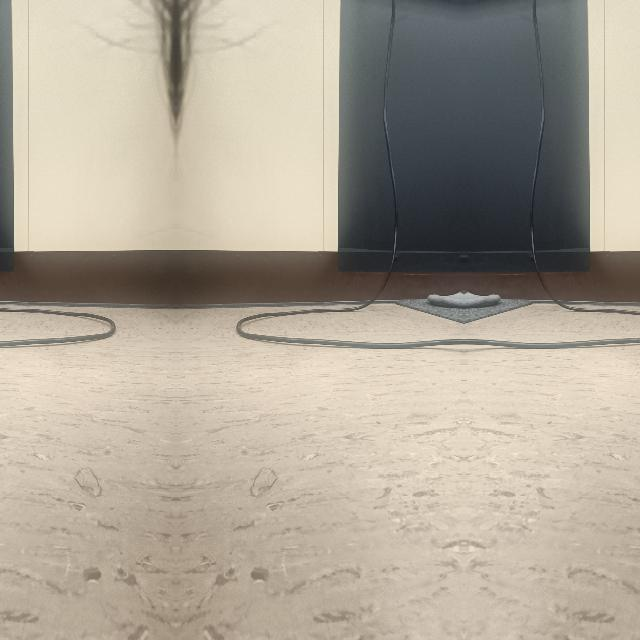obstacle: (240, 310, 464, 360), (464, 310, 640, 359), (0, 310, 110, 359)
